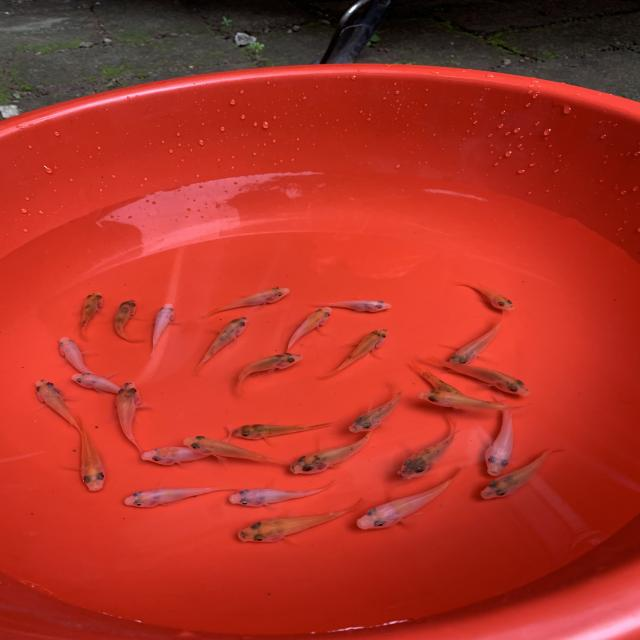nila: (353, 466, 462, 537), (234, 492, 368, 546), (427, 350, 535, 403), (391, 410, 468, 481), (278, 424, 382, 476), (474, 442, 566, 500), (180, 430, 302, 471), (187, 312, 254, 381), (220, 472, 341, 510), (59, 413, 111, 499), (318, 324, 393, 383), (413, 381, 546, 413), (346, 379, 412, 443), (105, 374, 154, 460), (31, 374, 95, 439), (138, 424, 234, 467), (229, 348, 305, 399), (203, 282, 296, 322), (446, 312, 510, 370), (120, 482, 248, 511), (399, 362, 478, 406), (482, 398, 524, 480), (67, 368, 150, 408), (224, 416, 340, 442), (49, 335, 112, 381), (286, 302, 336, 353), (452, 278, 521, 312), (146, 299, 182, 359), (307, 294, 396, 316), (109, 298, 147, 348), (70, 287, 104, 339)
